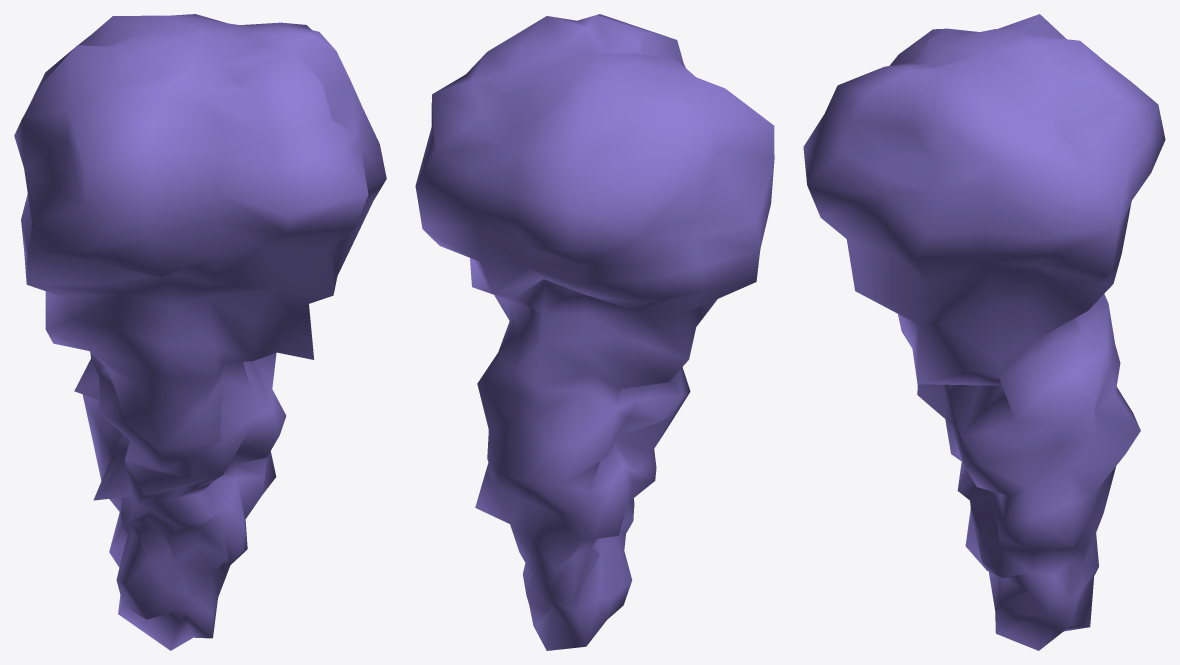
Rendered from floating island.fbx.
3 views of the same model, side by side, from view 1: azimuth 30°, elevation 25°; view 2: azimuth 150°, elevation 25°; view 3: azimuth 270°, elevation 25° (orthographic). The views are drawn at different scales.
Visible parts, largest first — view 1: Cube_011; view 2: Cube_011; view 3: Cube_011.
Part boxes in pixels (x1,y1,x2,y2): Cube_011: (14, 14, 386, 650); Cube_011: (415, 14, 774, 650); Cube_011: (803, 14, 1165, 650).
Size of the model in its own units: 7.13 by 13.16 by 7.26.
